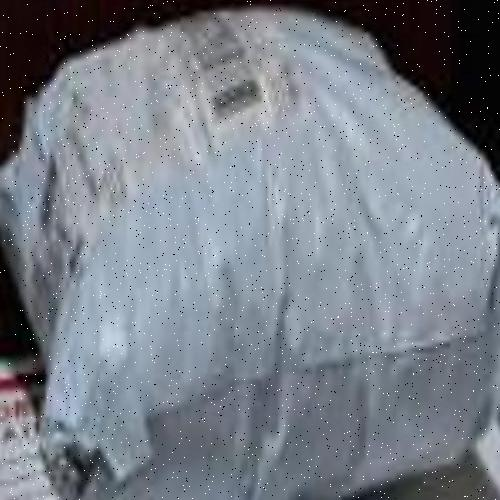Other: (33, 7, 495, 476), (0, 361, 111, 498)
